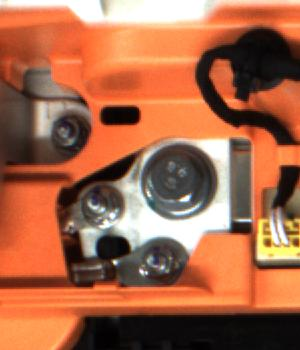nut_b: (141, 134, 212, 216)
screw_s: (78, 181, 124, 229), (135, 243, 182, 282), (45, 110, 84, 148)
